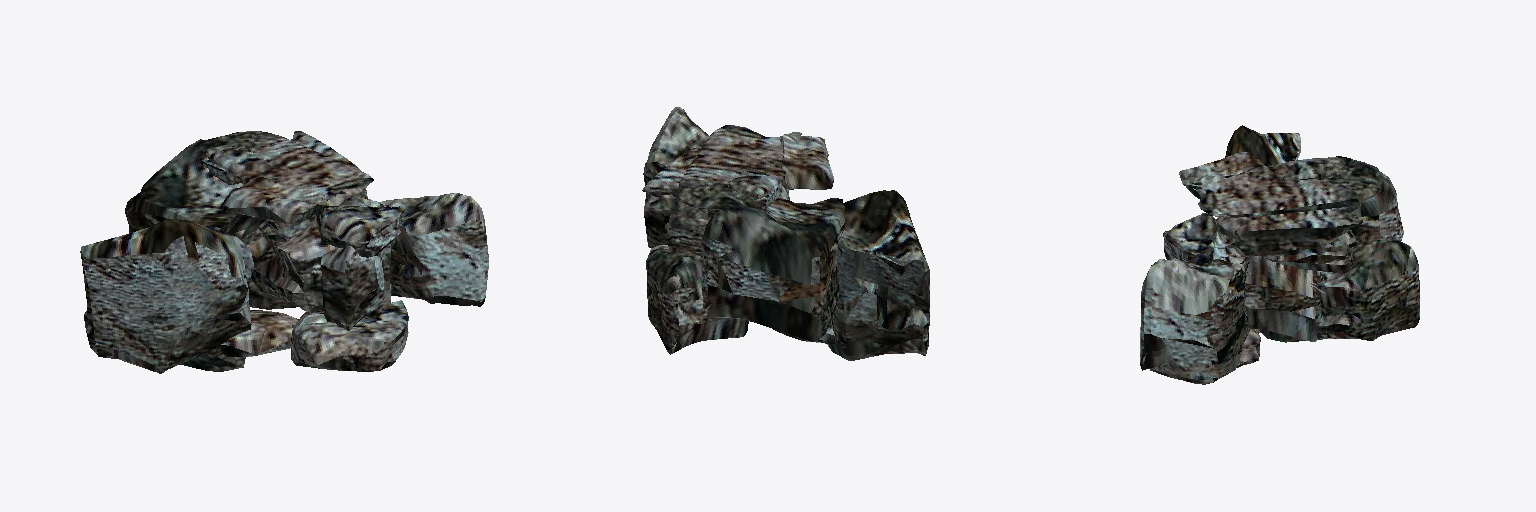
3 renders of one model, left to right at view 1: azimuth 30°, elevation 25°; view 2: azimuth 150°, elevation 25°; view 3: azimuth 270°, elevation 25°, orthographic.
Parts seen in each view (by area): view 1: ʯͷ011ok; view 2: ʯͷ011ok; view 3: ʯͷ011ok.
Boxes of the visible parts, x1,y1,x2,y2 form: ʯͷ011ok: [80, 131, 488, 373]; ʯͷ011ok: [642, 107, 929, 360]; ʯͷ011ok: [1140, 125, 1419, 384].
Bounding box in the file's own units: 319 × 166 × 231.
1 materials, 1 textured.